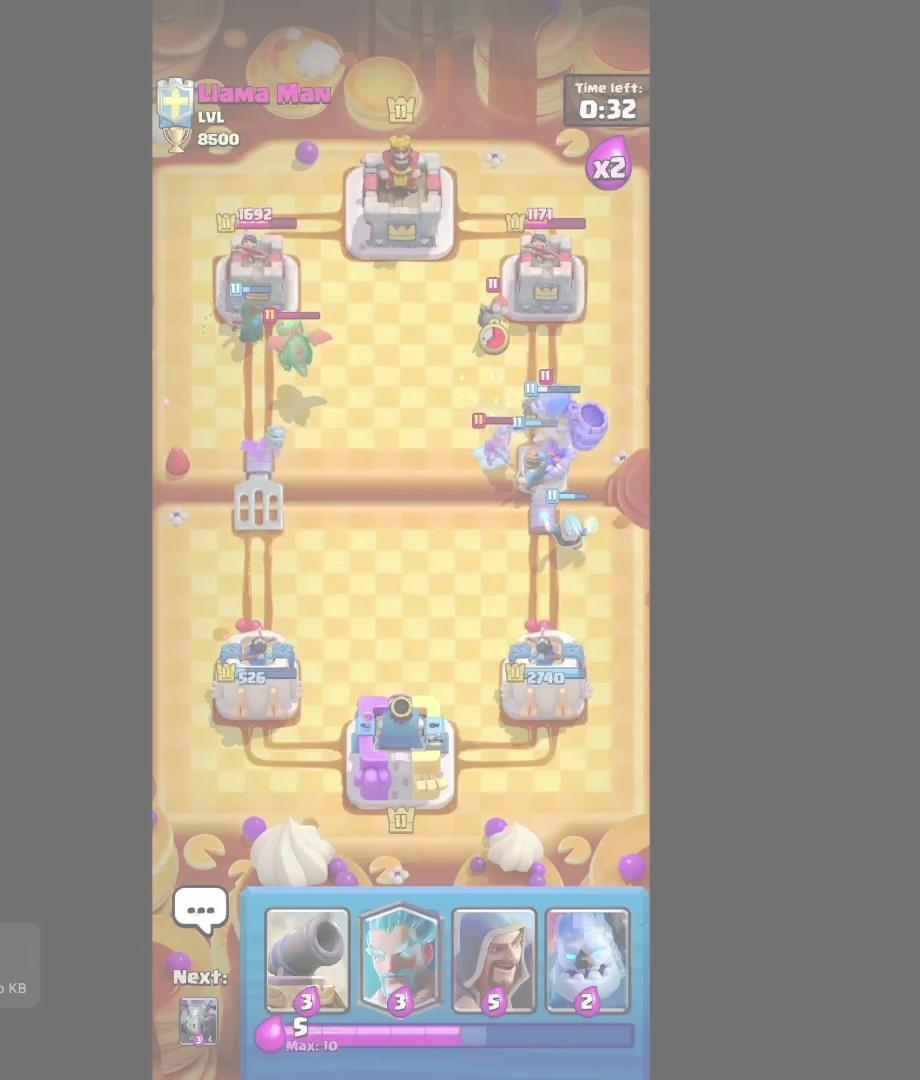Baby Dragon: (264, 307, 331, 383)
Bomber: (478, 273, 514, 359)
Mini Pekka: (518, 373, 569, 414)
Valkyrie: (468, 412, 519, 473)
